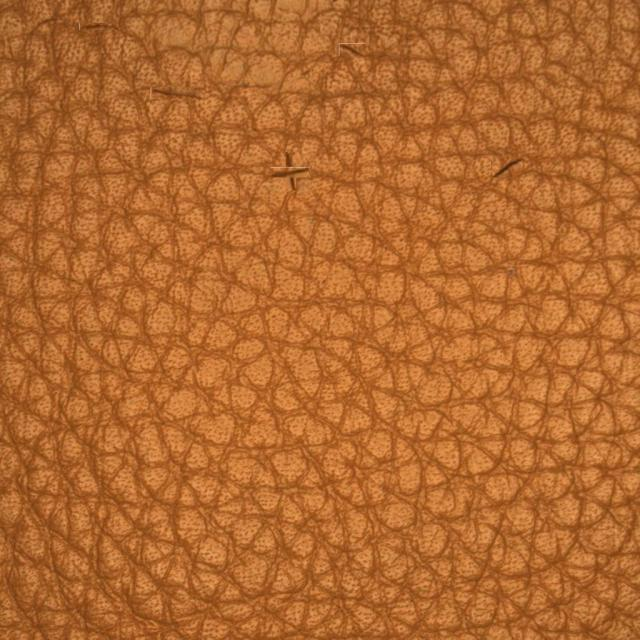Scratch: (242, 108, 538, 232), (108, 19, 392, 123)
